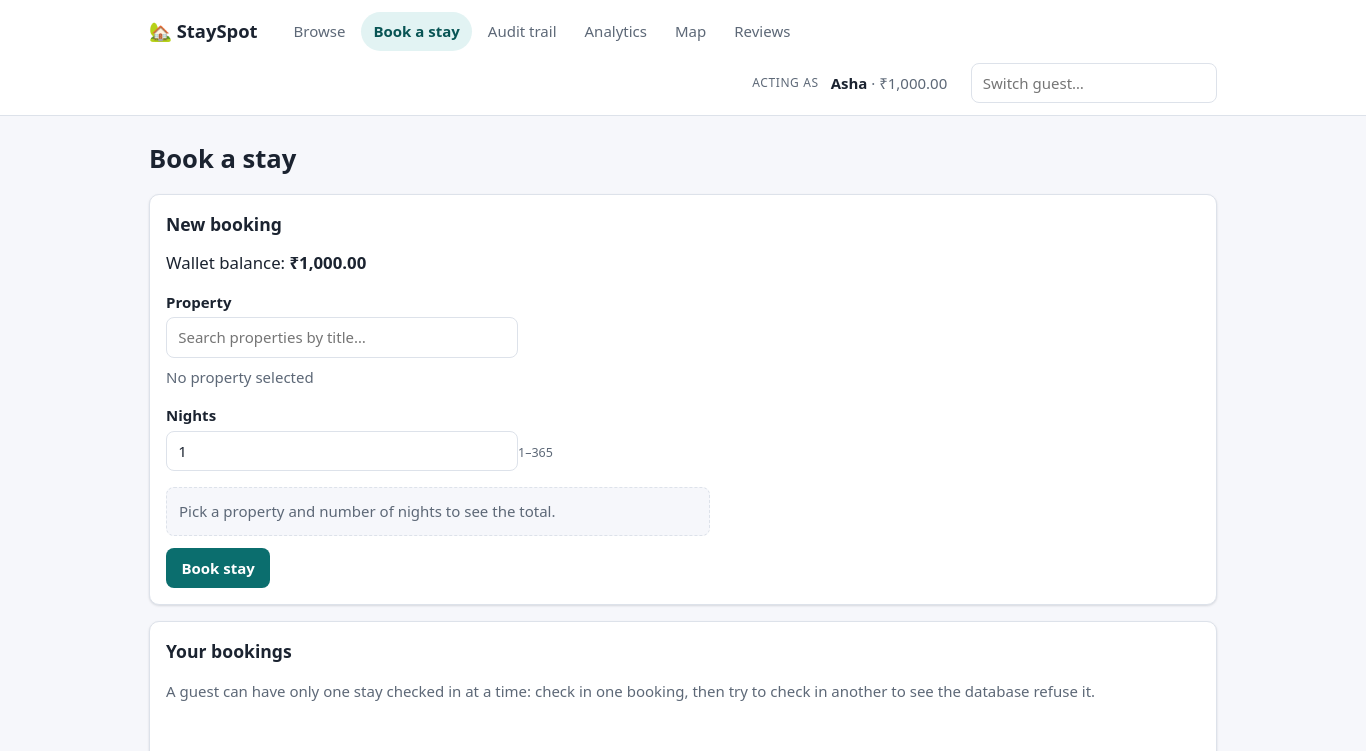
Test: Book a stay › explains an insufficient balance in plain words
Expected: the text "Wallet balance: ₹1,000.00" is shown, [166, 251, 366, 274]
Click the dropdown labelled "Property": [342, 338] box [166, 318, 518, 358]
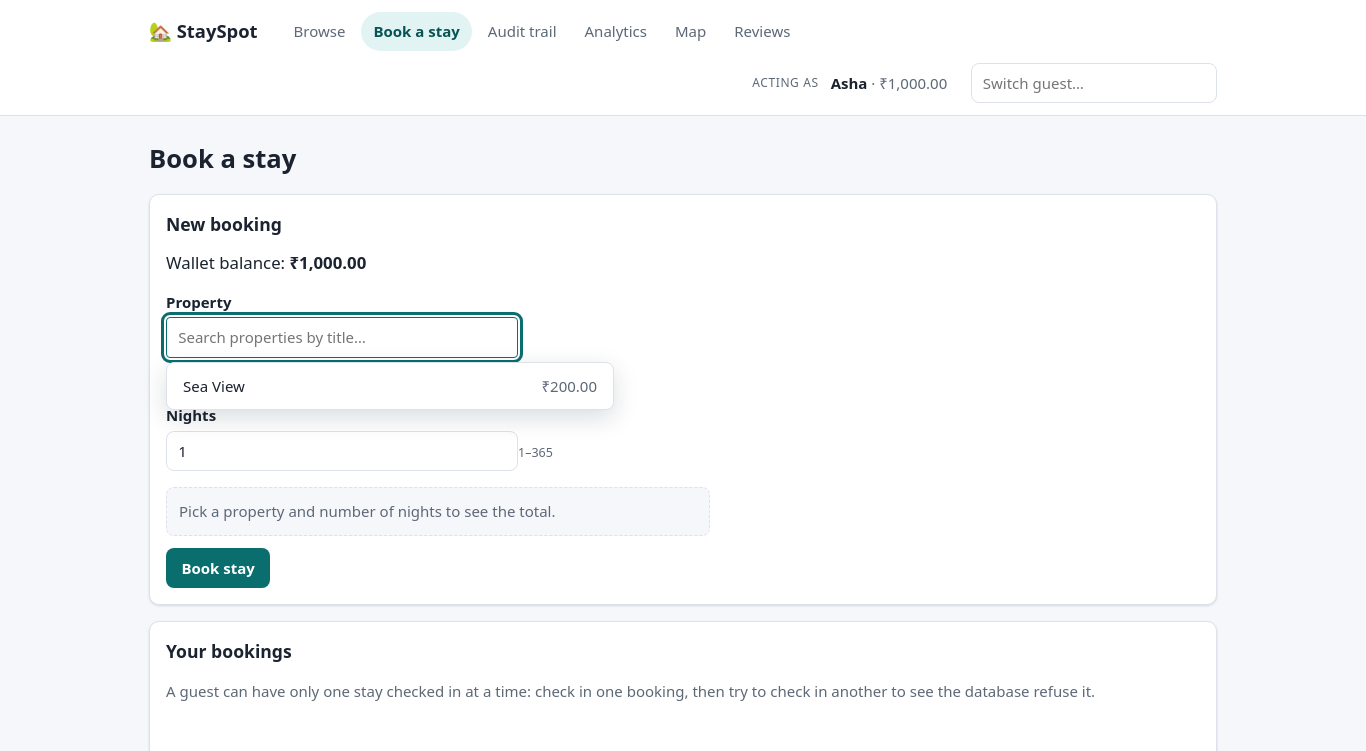
Click the button "Sea View ₹200.00": [214, 386] box [171, 367, 609, 406]
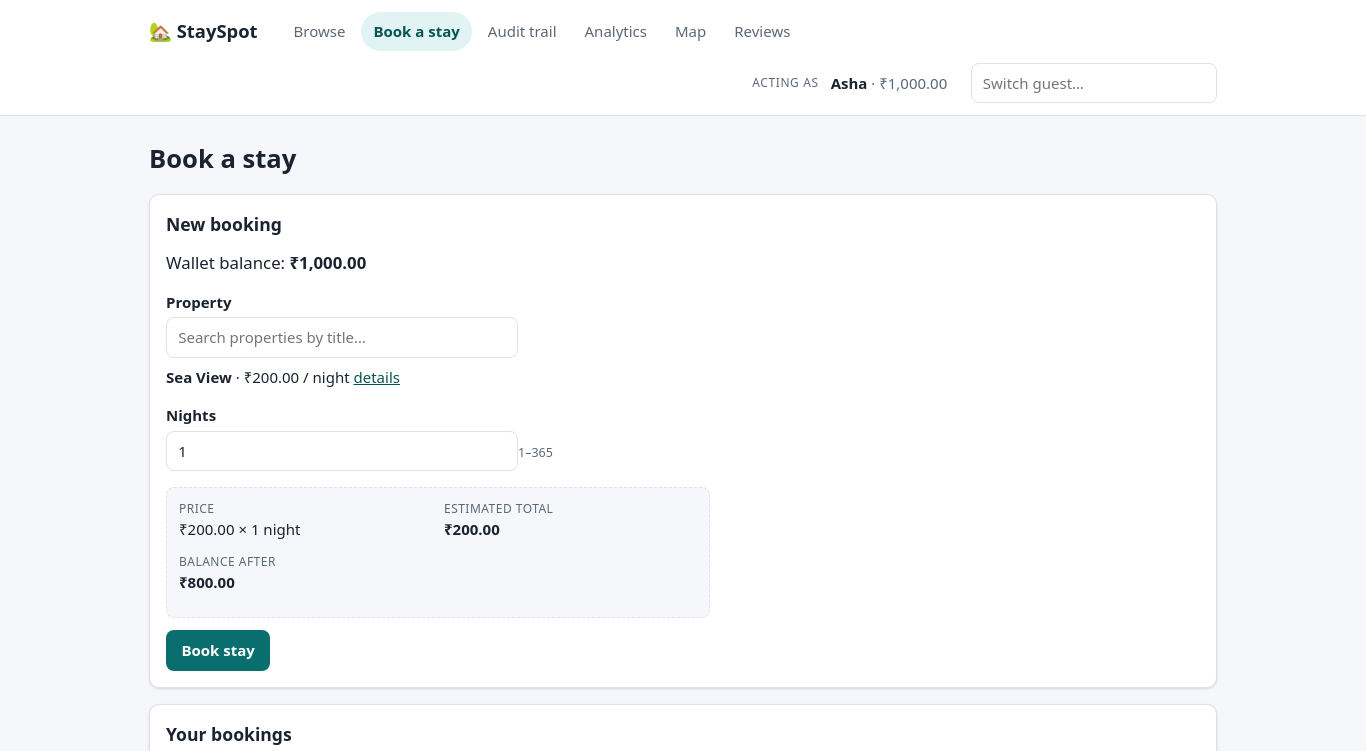
Click the button "Book stay": [218, 651] box [166, 630, 270, 671]
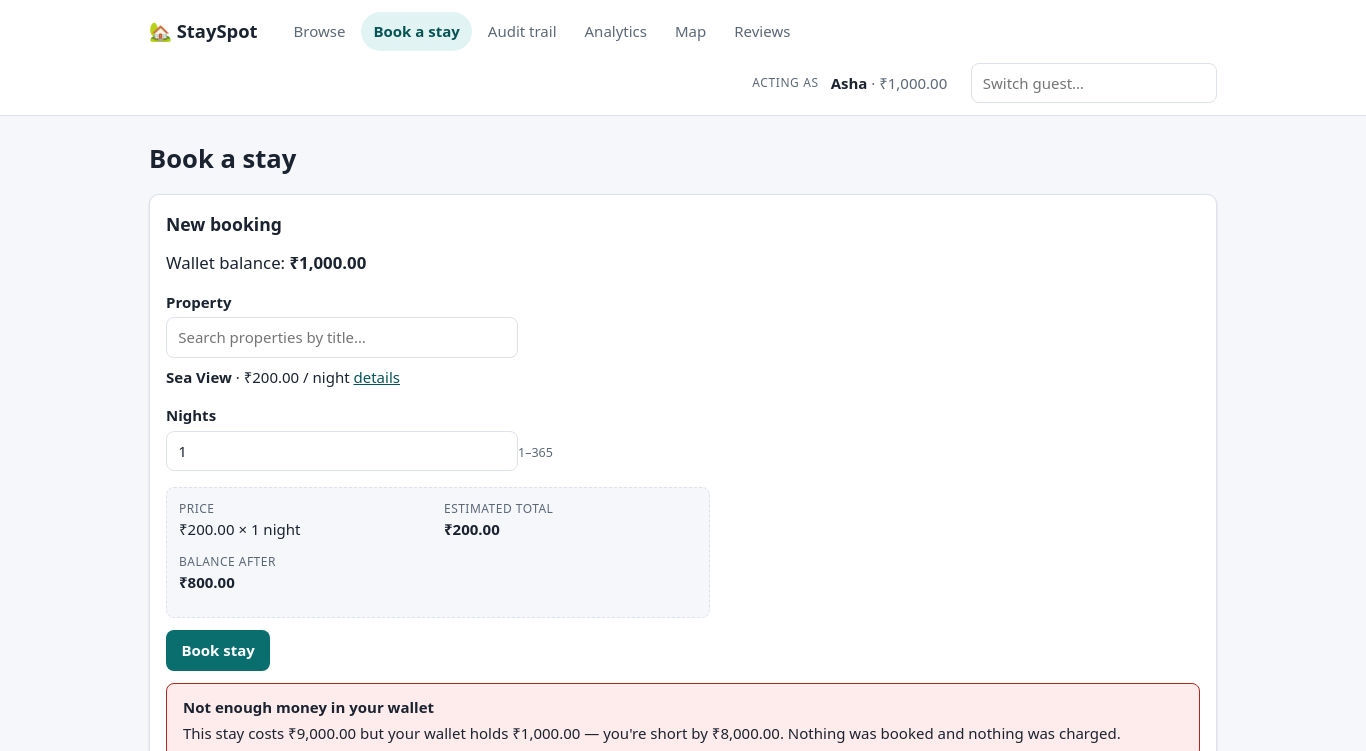
Expected: the text "Not enough money in your wallet" is shown, [183, 697, 434, 717]
Expected: the text "Nothing was booked and nothing was charged" is shown, [183, 724, 1121, 744]
